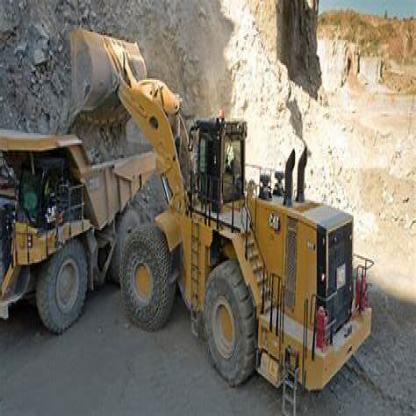bull_dozer/loader/grader: (61, 25, 376, 394)
